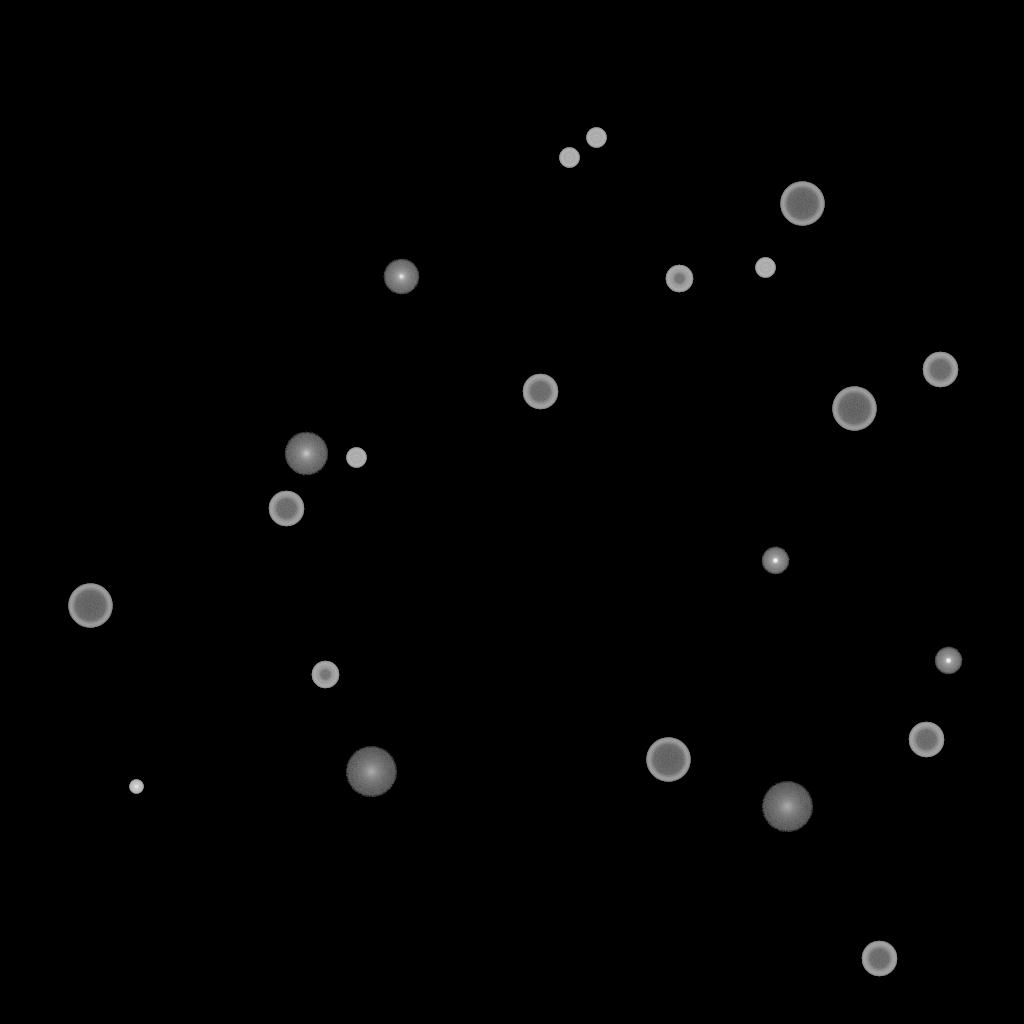depth:-10: (934, 647, 962, 675), (761, 547, 789, 575)
depth:-30: (129, 780, 143, 794)
depth:-40: (559, 148, 579, 168), (586, 128, 606, 148), (346, 448, 366, 468), (755, 258, 775, 278)
depth:-50: (311, 661, 339, 689), (665, 265, 693, 293)
depth:-60: (908, 722, 944, 758), (861, 941, 897, 977), (522, 374, 558, 410), (268, 491, 304, 527), (922, 352, 958, 388)
depth:-70: (68, 584, 112, 628), (832, 387, 876, 431), (780, 182, 824, 226), (646, 738, 690, 782)
depth:0: (383, 259, 419, 295)
depth:10: (284, 432, 328, 476)
depth:20: (345, 747, 397, 797), (761, 782, 813, 832)
